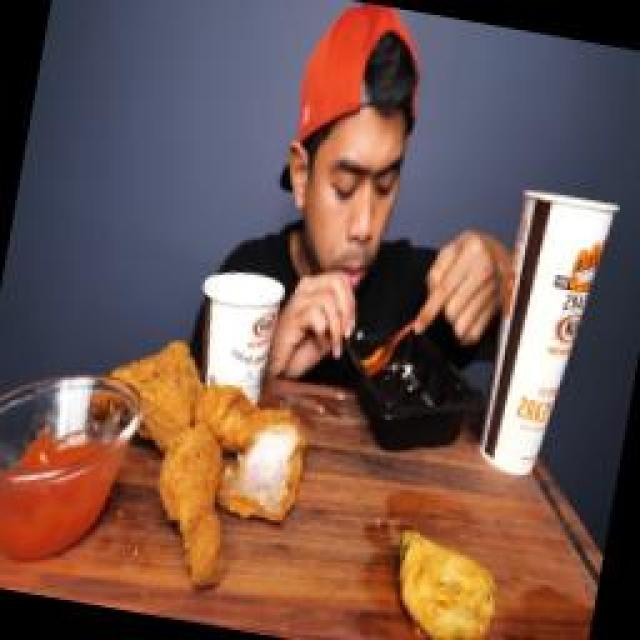AW cola: (465, 165, 633, 505)
crispy corn: (168, 255, 288, 418)
fried chicken: (80, 320, 325, 590)
perkedel: (372, 507, 519, 640)
